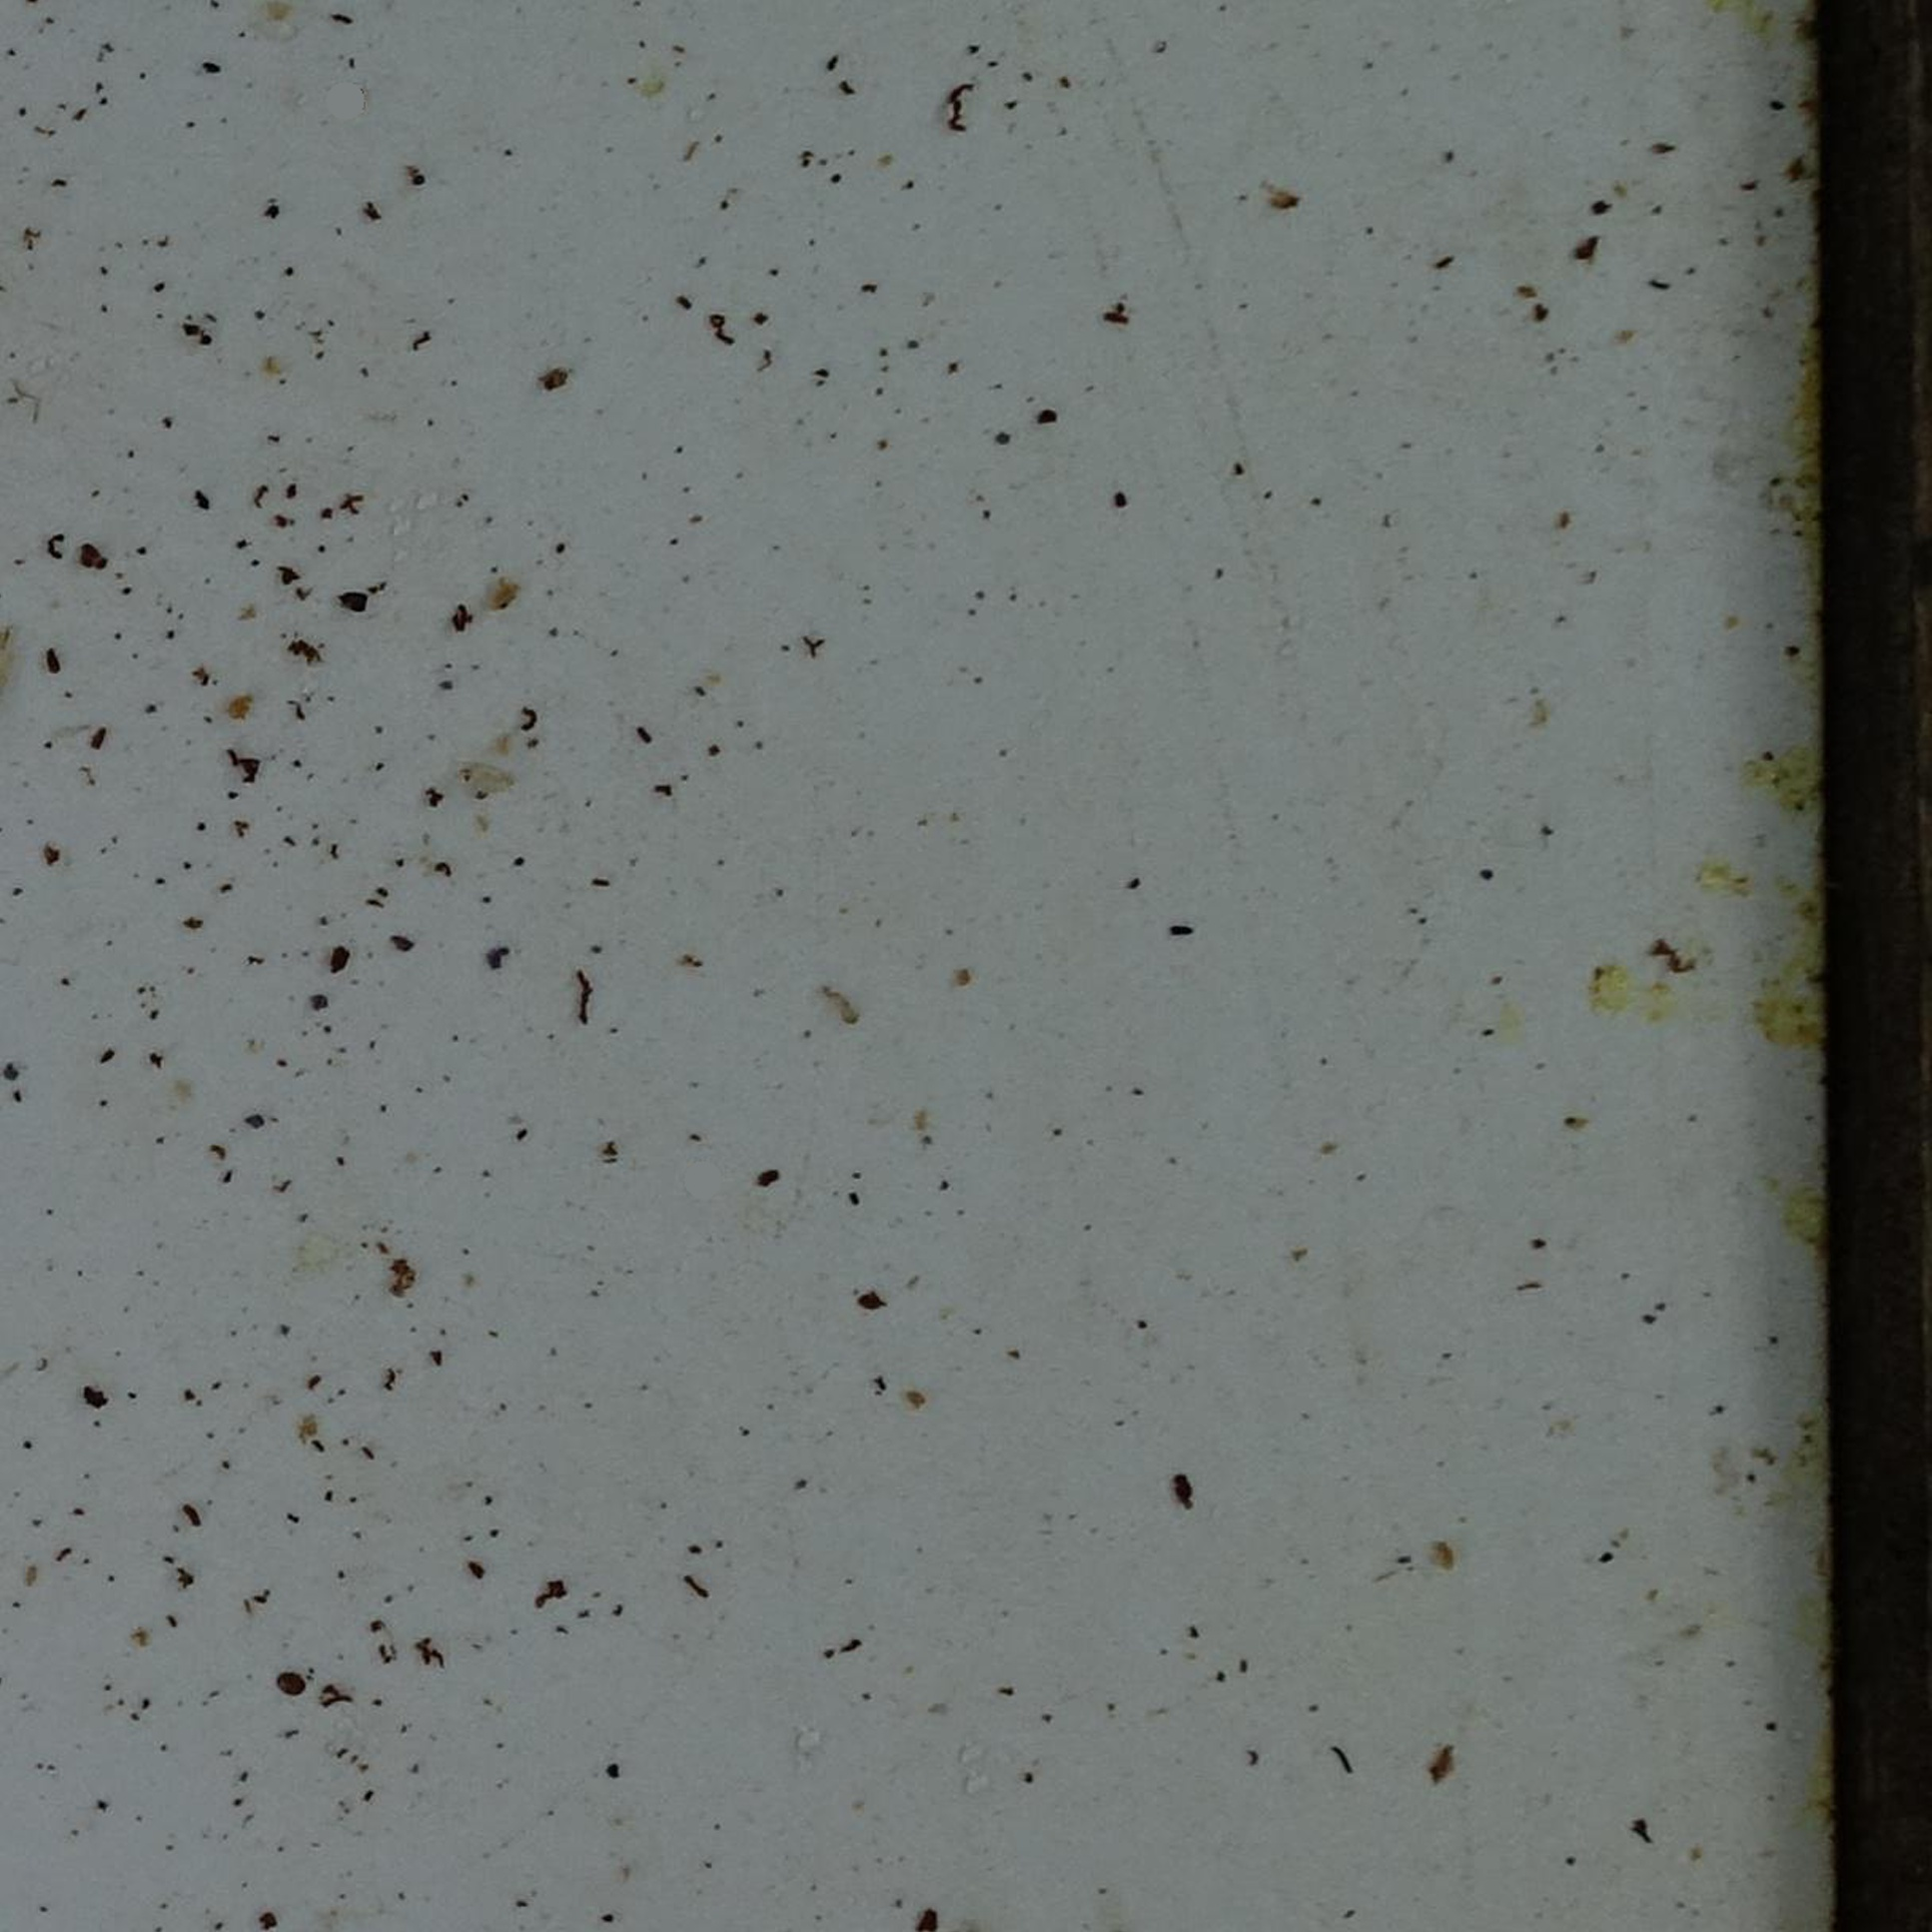Varroa: (280, 1674, 294, 1690)
